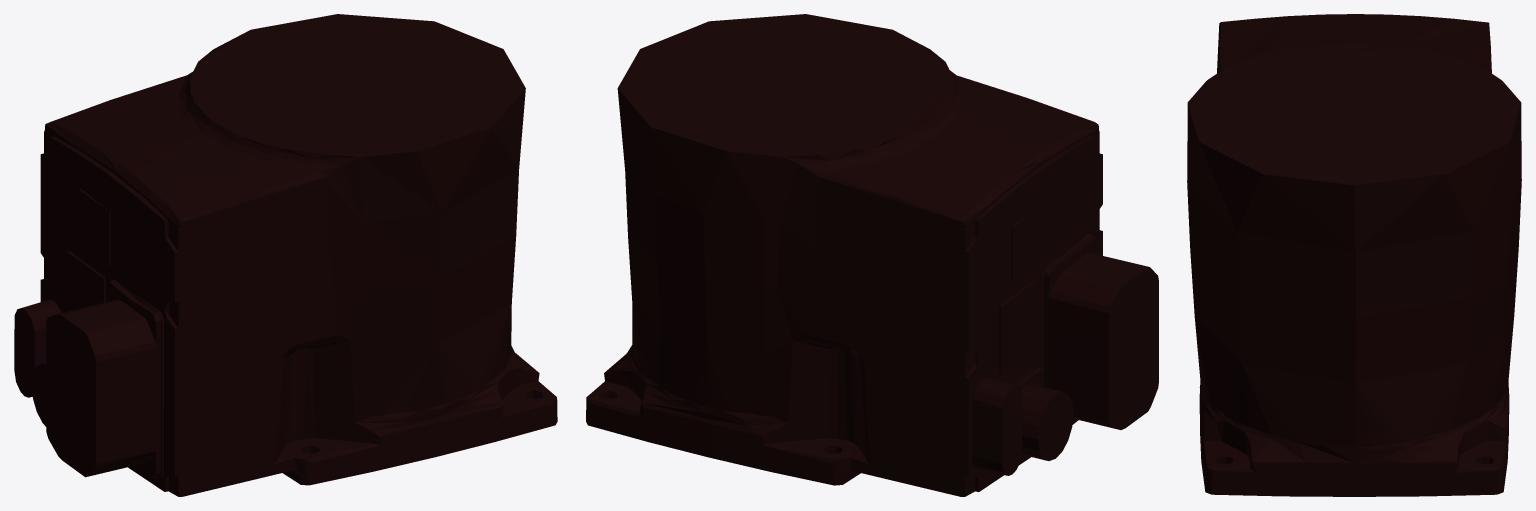
File: DensoVS060Link0.dae
3 renders of one model, left to right at view 1: azimuth 30°, elevation 25°; view 2: azimuth 150°, elevation 25°; view 3: azimuth 270°, elevation 25°, orthographic.
Parts seen in each view (by area): view 1: DensoVS060Link0; view 2: DensoVS060Link0; view 3: DensoVS060Link0.
Boxes of the visible parts, <box> form: DensoVS060Link0: <box>14,14,557,496</box>; DensoVS060Link0: <box>586,14,1158,496</box>; DensoVS060Link0: <box>1187,14,1521,496</box>.
Bounding box in the file's own units: 0.278 × 0.1733 × 0.1815.
